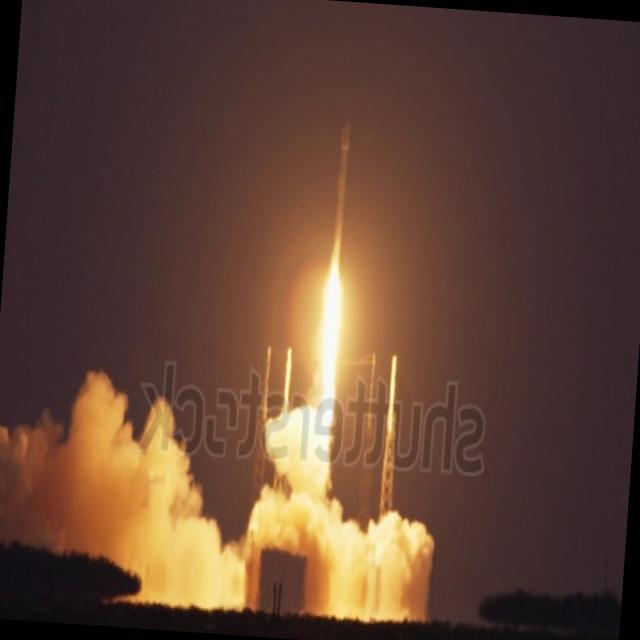rocket: (308, 115, 357, 406)
